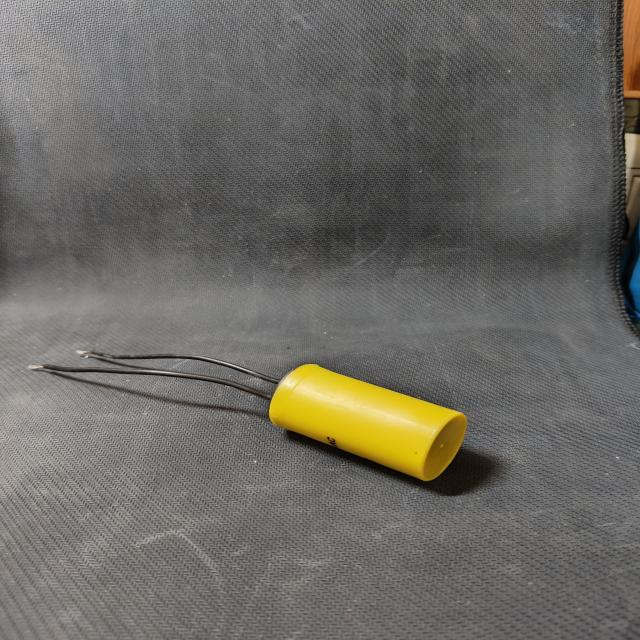capacitor: (28, 351, 467, 481)
